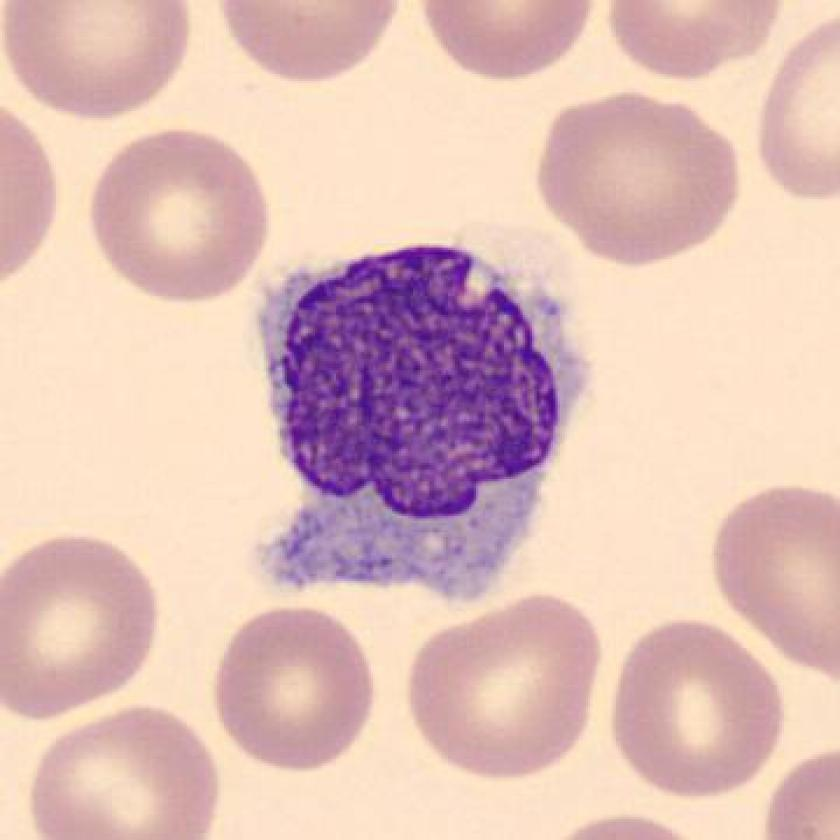monocyte: (237, 207, 596, 630)
